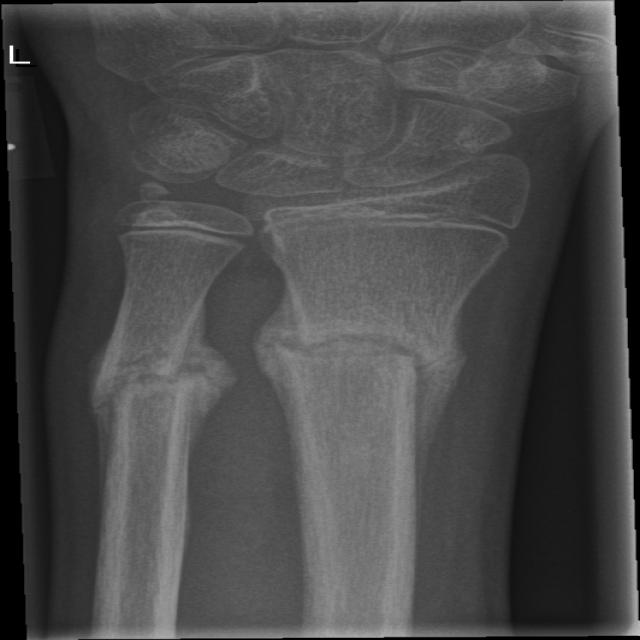radius fracture: (234, 256, 471, 505)
ulna fracture: (68, 302, 252, 486)
